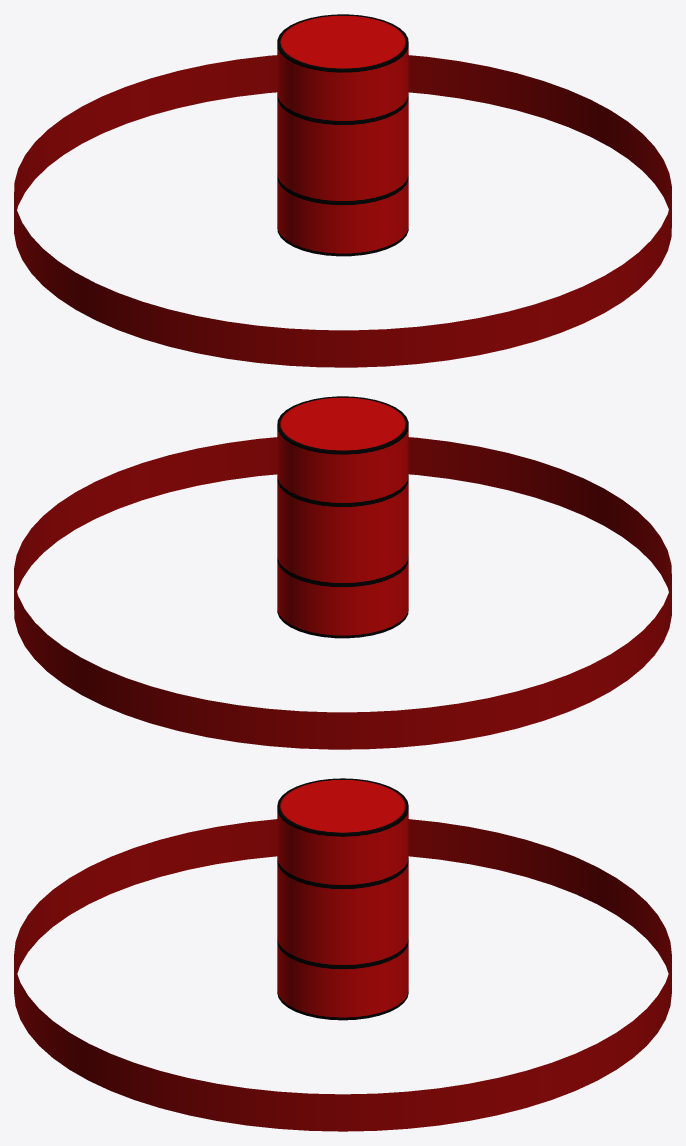
Rendered from barrel_e_r2.obj.
The picture shows the model from 3 angles, top to bottom: view 1: azimuth 30°, elevation 25°; view 2: azimuth 150°, elevation 25°; view 3: azimuth 270°, elevation 25°; orthographic projection.
Visible parts, largest first — view 1: barrel_e_r2; view 2: barrel_e_r2; view 3: barrel_e_r2.
Boxes of the visible parts, left/top/right/bottom form: barrel_e_r2: left=14, top=14, right=671, bottom=367; barrel_e_r2: left=14, top=396, right=671, bottom=749; barrel_e_r2: left=14, top=778, right=671, bottom=1131.
Size of the model in its own units: 4 by 1.25 by 4.
Materials: 3 (3 with a texture image).
